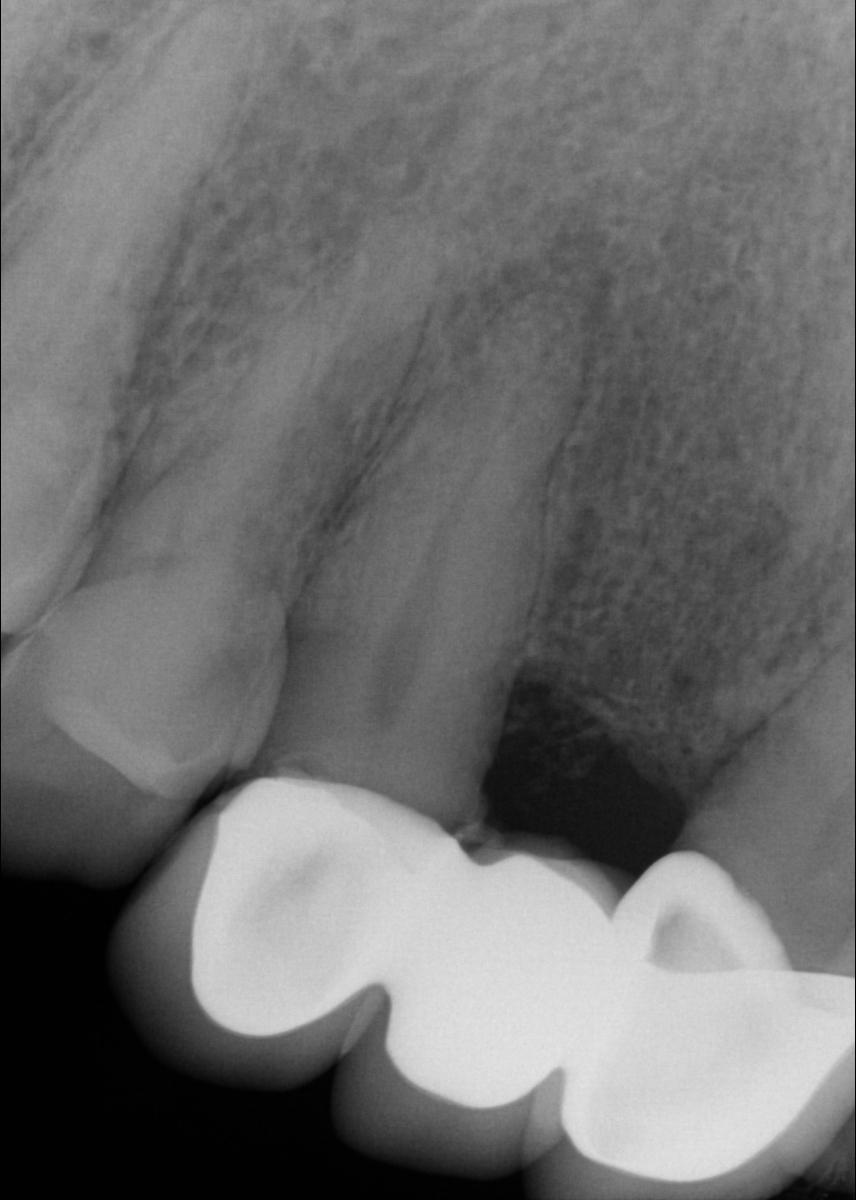Furcation Involvement: (441, 209, 623, 366)
